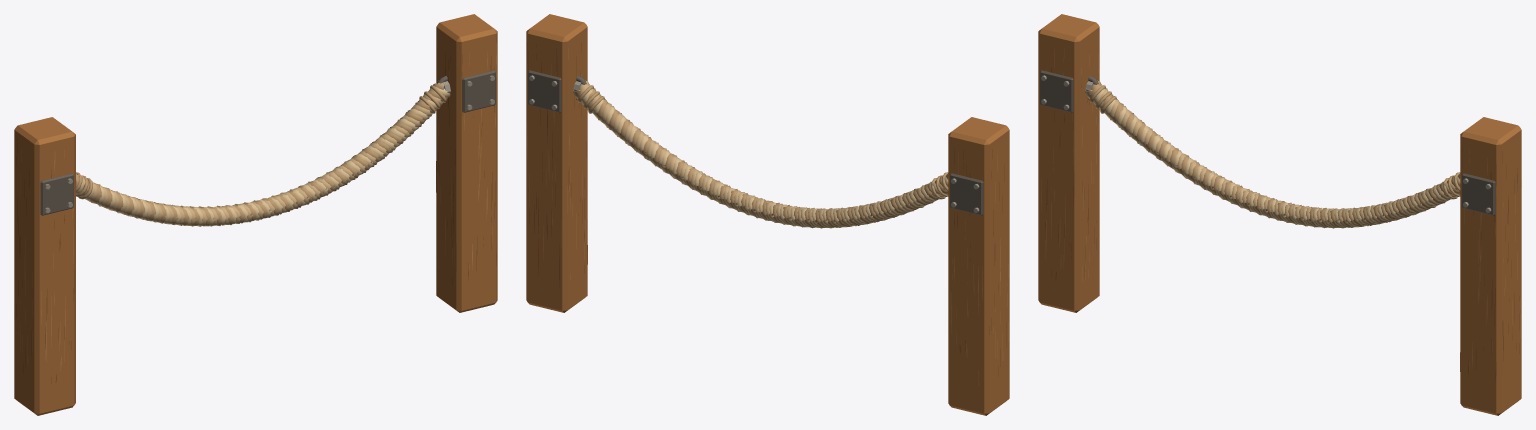
File: wsc-prop-050-rock-handrail-rope.glb
3 views of the same model, side by side, from view 1: azimuth 30°, elevation 25°; view 2: azimuth 150°, elevation 25°; view 3: azimuth 330°, elevation 25° (orthographic).
Parts seen in each view (by area): view 1: Cedar amber, Hemp shade, Hemp middle, Hemp light, Old bronze iron, Weathered timber color details; view 2: Cedar amber, Hemp shade, Hemp light, Hemp middle, Old bronze iron, Weathered timber color details; view 3: Cedar amber, Hemp shade, Hemp middle, Hemp light, Old bronze iron, Weathered timber color details.
Part boxes in pixels (x1,y1,x2,y2): Cedar amber: (14, 14, 497, 415); Hemp shade: (76, 85, 447, 226); Hemp middle: (76, 82, 444, 226); Hemp light: (76, 86, 450, 226); Old bronze iron: (40, 70, 495, 215); Weathered timber color details: (14, 39, 496, 383); Cedar amber: (526, 14, 1009, 415); Hemp shade: (573, 85, 948, 228); Hemp light: (581, 85, 948, 228); Hemp middle: (577, 80, 948, 227); Old bronze iron: (528, 70, 983, 215); Weathered timber color details: (527, 42, 1008, 385); Cedar amber: (1038, 14, 1521, 415); Hemp shade: (1089, 80, 1460, 227); Hemp middle: (1085, 88, 1460, 228); Hemp light: (1093, 85, 1460, 228); Old bronze iron: (1040, 70, 1495, 215); Weathered timber color details: (1041, 47, 1521, 380).
Bounding box in the file's own units: 2.46 × 1.4 × 0.267.
